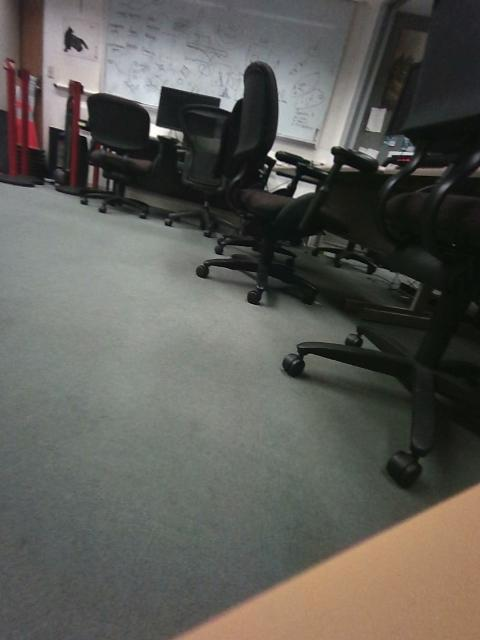block: (183, 302, 233, 344)
